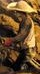gloves: (2, 36, 12, 46)
hard-hat: (31, 0, 40, 6)
